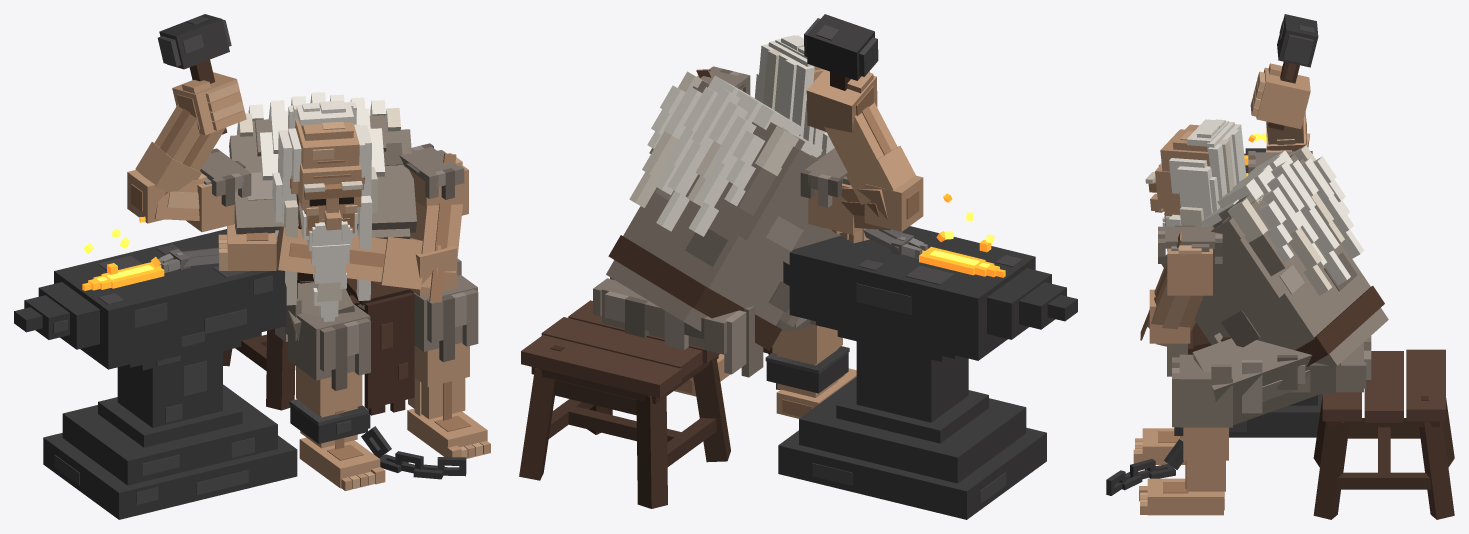
Rendered from Lobby_SmithNPC.glb.
3 renders of one model, left to right at view 1: azimuth 30°, elevation 25°; view 2: azimuth 150°, elevation 25°; view 3: azimuth 270°, elevation 25°, orthographic. The views are drawn at different scales.
Parts seen in each view (by area): view 1: Anvil_Charcoal_Iron, Legs_Tan_Skin, ArmL_Tan_Skin, ArmR_Tan_Skin, Legs_Grey_Cloth, Torso_Grey_Cloth, Anvil_Charcoal_IronLight, Legs_DarkBrown_WoodLeather, Head_Cream_Hair, Head_Tan_Skin, HairBack_Cream_Hair, Beard_Cream_Hair (+22 smaller); view 2: Anvil_Charcoal_Iron, Torso_Grey_Cloth, Stool_DarkBrown_WoodLeather, HairBack_Cream_Hair, ArmR_Tan_Skin, Stool_Brown_WoodTop, Torso_DarkBrown_WoodLeather, Head_Cream_Hair, Legs_Grey_Cloth, HairBack_Cream_HairLock, Legs_Tan_Skin, Anvil_Charcoal_IronLight (+13 smaller); view 3: Torso_Grey_Cloth, Legs_Grey_Cloth, Stool_DarkBrown_WoodLeather, HairBack_Cream_Hair, Stool_Brown_WoodTop, Legs_Tan_Skin, Head_Cream_Hair, ArmL_Tan_Skin, ArmR_Tan_Skin, HairBack_Cream_HairLock, Anvil_Charcoal_Iron, Torso_DarkBrown_WoodLeather (+14 smaller).
Part boxes in pixels (bbox=[...]): Anvil_Charcoal_Iron: bbox=[14, 229, 297, 519]; Legs_Tan_Skin: bbox=[296, 342, 490, 490]; ArmL_Tan_Skin: bbox=[218, 165, 468, 296]; ArmR_Tan_Skin: bbox=[127, 72, 246, 232]; Legs_Grey_Cloth: bbox=[285, 258, 478, 380]; Torso_Grey_Cloth: bbox=[229, 115, 416, 241]; Anvil_Charcoal_IronLight: bbox=[53, 244, 272, 504]; Legs_DarkBrown_WoodLeather: bbox=[347, 278, 414, 415]; Head_Cream_Hair: bbox=[272, 100, 372, 300]; Head_Tan_Skin: bbox=[291, 119, 363, 235]; HairBack_Cream_Hair: bbox=[248, 92, 385, 180]; Beard_Cream_Hair: bbox=[299, 201, 357, 321]; Anvil_Charcoal_Iron: bbox=[778, 226, 1077, 519]; Torso_Grey_Cloth: bbox=[606, 80, 840, 331]; Stool_DarkBrown_WoodLeather: bbox=[519, 345, 730, 508]; HairBack_Cream_Hair: bbox=[647, 75, 822, 236]; ArmR_Tan_Skin: bbox=[806, 69, 923, 234]; Stool_Brown_WoodTop: bbox=[521, 300, 719, 397]; Torso_DarkBrown_WoodLeather: bbox=[608, 235, 781, 350]; Head_Cream_Hair: bbox=[754, 35, 834, 154]; Legs_Grey_Cloth: bbox=[593, 278, 819, 377]; HairBack_Cream_HairLock: bbox=[629, 71, 798, 207]; Legs_Tan_Skin: bbox=[674, 324, 856, 418]; Anvil_Charcoal_IronLight: bbox=[812, 255, 1022, 504]; Torso_Grey_Cloth: bbox=[1161, 154, 1388, 369]; Legs_Grey_Cloth: bbox=[1167, 336, 1371, 427]; Stool_DarkBrown_WoodLeather: bbox=[1313, 396, 1454, 519]; HairBack_Cream_Hair: bbox=[1200, 150, 1364, 285]; Stool_Brown_WoodTop: bbox=[1322, 349, 1445, 422]; Legs_Tan_Skin: bbox=[1133, 427, 1228, 515]; Head_Cream_Hair: bbox=[1168, 119, 1246, 226]; ArmL_Tan_Skin: bbox=[1147, 248, 1212, 343]; ArmR_Tan_Skin: bbox=[1250, 63, 1310, 152]; HairBack_Cream_HairLock: bbox=[1227, 145, 1344, 295]; Anvil_Charcoal_Iron: bbox=[1229, 148, 1322, 437]; Torso_DarkBrown_WoodLeather: bbox=[1295, 286, 1384, 366].
Bounding box in the file's own units: 1.8 × 1.73 × 1.37.
